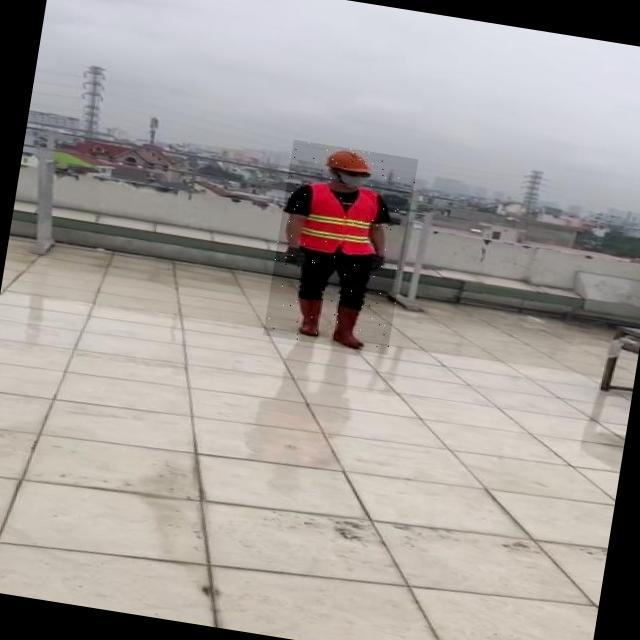Gloves: (367, 252, 390, 276), (284, 246, 307, 269)
Helmet: (324, 147, 375, 175)
Human: (263, 140, 418, 355)
Safety Boot: (327, 303, 371, 349), (289, 295, 325, 338)
Safety Vest: (299, 181, 385, 261)
